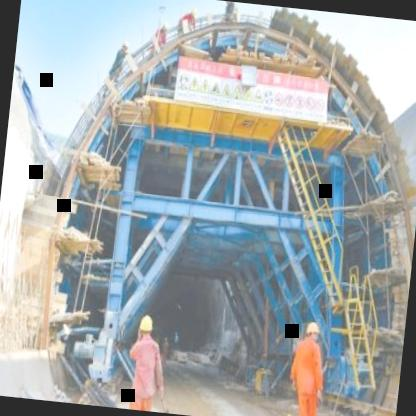helmet: (135, 310, 156, 345), (304, 315, 322, 342)
